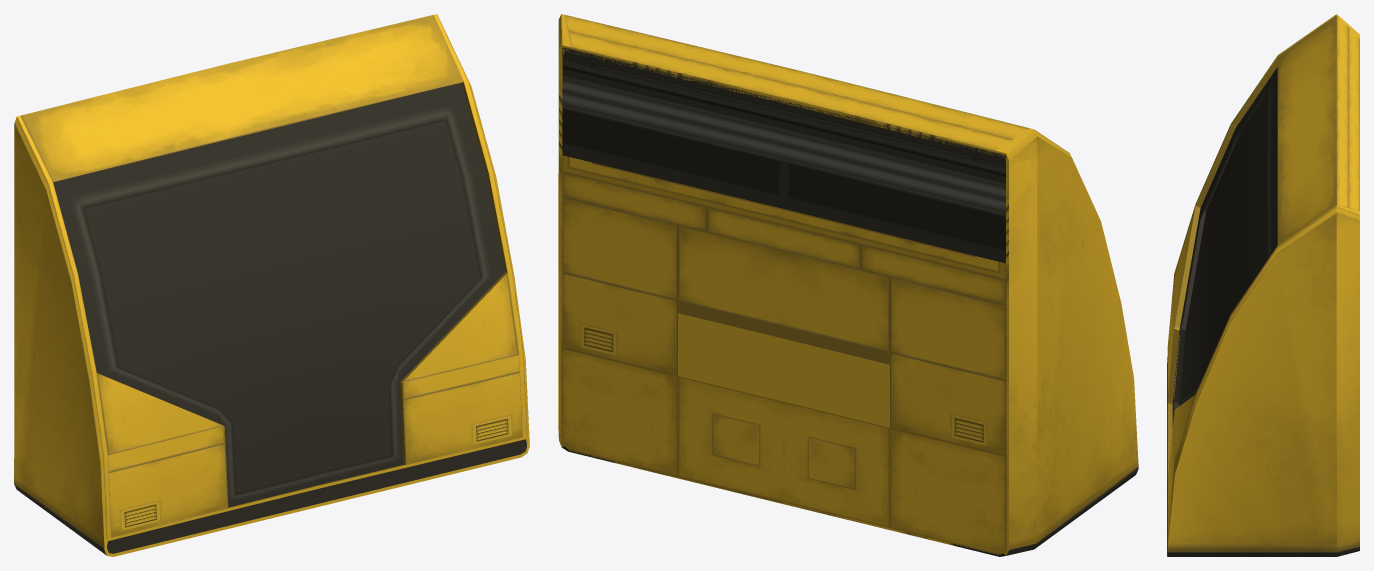
The model's file is CockPit.fbx.
3 renders of one model, left to right at view 1: azimuth 30°, elevation 25°; view 2: azimuth 150°, elevation 25°; view 3: azimuth 270°, elevation 25°, orthographic. The views are drawn at different scales.
Visible parts, largest first — view 1: TrainFront; view 2: TrainFront; view 3: TrainFront.
Boxes of the visible parts, x1,y1,x2,y2 form: TrainFront: (14, 14, 529, 556); TrainFront: (558, 14, 1138, 556); TrainFront: (1167, 14, 1359, 556).
Bounding box in the file's own units: 301 × 255 × 126.
